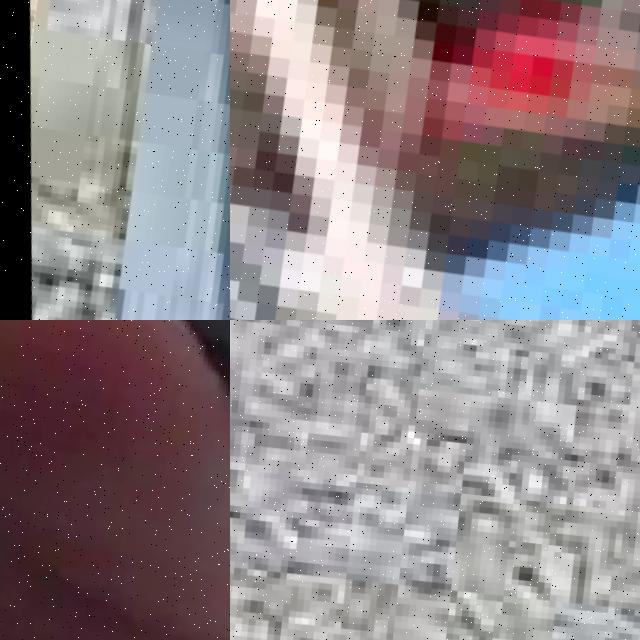drone: (230, 0, 640, 320), (0, 0, 230, 320), (0, 320, 230, 640)
